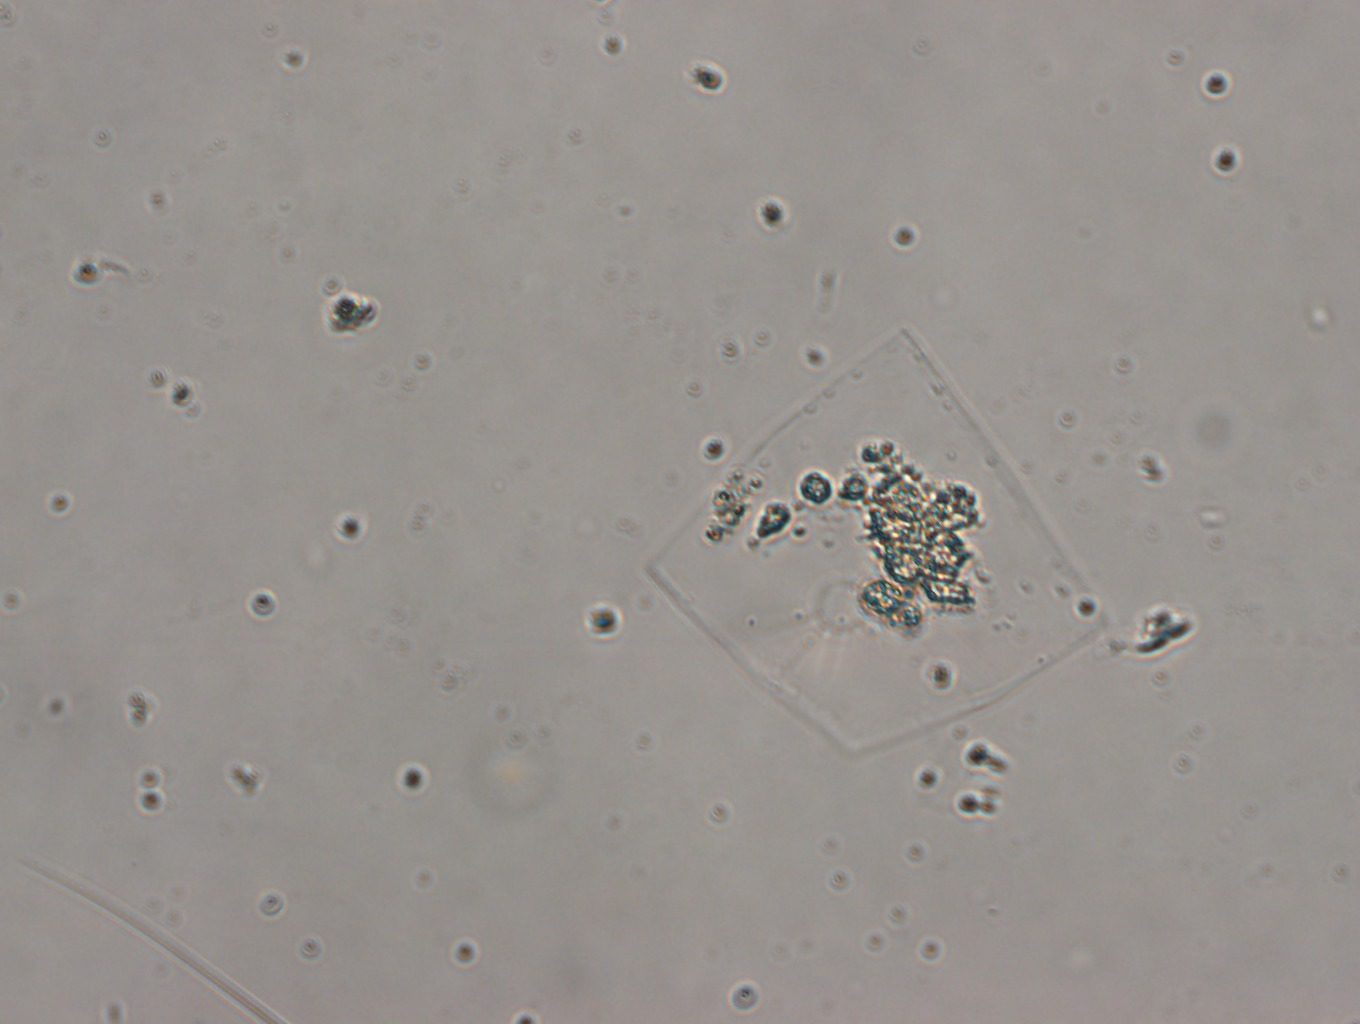helicotheca: (639, 323, 1112, 759)
